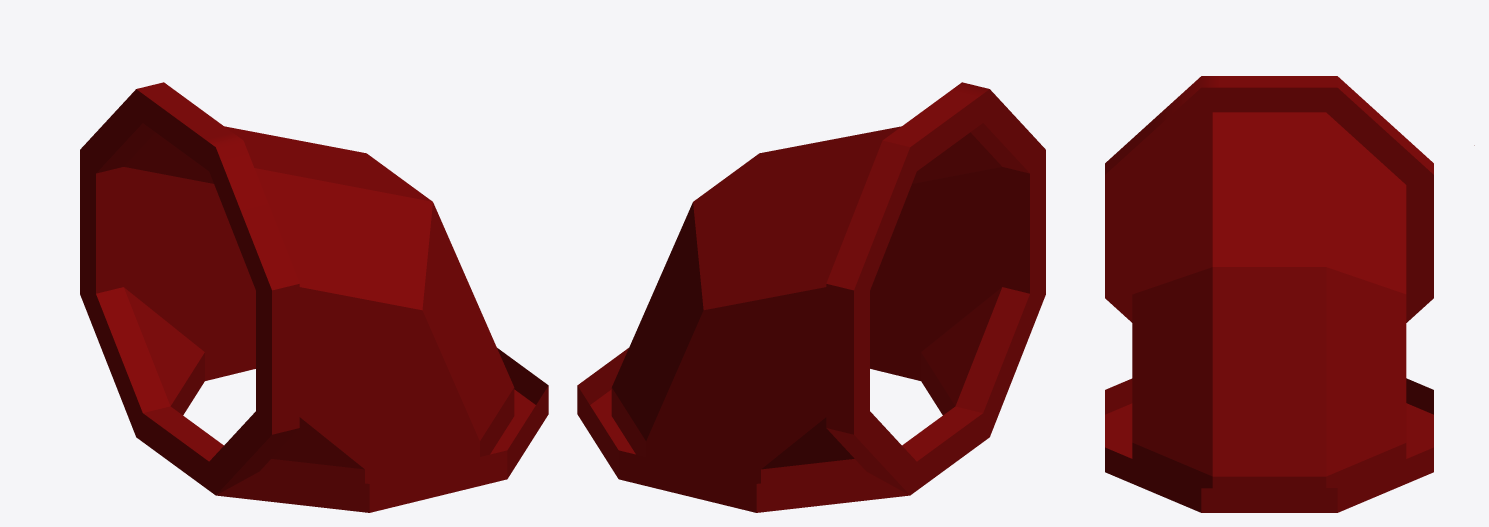
File: elbows of venthood(1).dae
3 views of the same model, side by side, from view 1: azimuth 30°, elevation 25°; view 2: azimuth 150°, elevation 25°; view 3: azimuth 270°, elevation 25° (orthographic). The views are drawn at different scales.
Visible parts, largest first — view 1: SketchUp; view 2: SketchUp; view 3: SketchUp.
Boxes of the visible parts, x1=… form: SketchUp: x1=80, y1=82, x2=548, y2=512; SketchUp: x1=577, y1=82, x2=1045, y2=512; SketchUp: x1=1105, y1=76, x2=1433, y2=512.
Size of the model in its own units: 1063 by 1063 by 1087.
